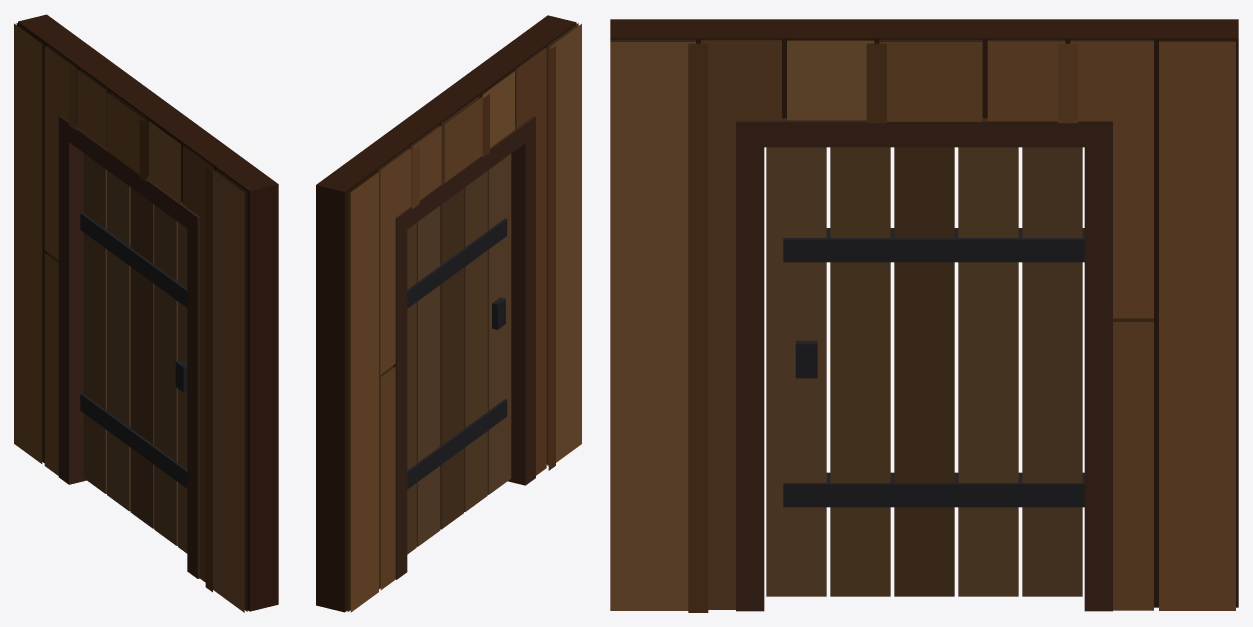
File: wall-timber-door.glb
3 views of the same model, side by side, from view 1: azimuth 30°, elevation 25°; view 2: azimuth 150°, elevation 25°; view 3: azimuth 270°, elevation 25° (orthographic). The views are drawn at different scales.
Visible parts, largest first — view 1: wall-timber-door; view 2: wall-timber-door; view 3: wall-timber-door.
Part boxes in pixels (x1,y1,x2,y2): wall-timber-door: (14, 14, 278, 612); wall-timber-door: (316, 15, 581, 612); wall-timber-door: (610, 19, 1238, 612).
Size of the model in its own units: 0.112 by 1 by 1.
